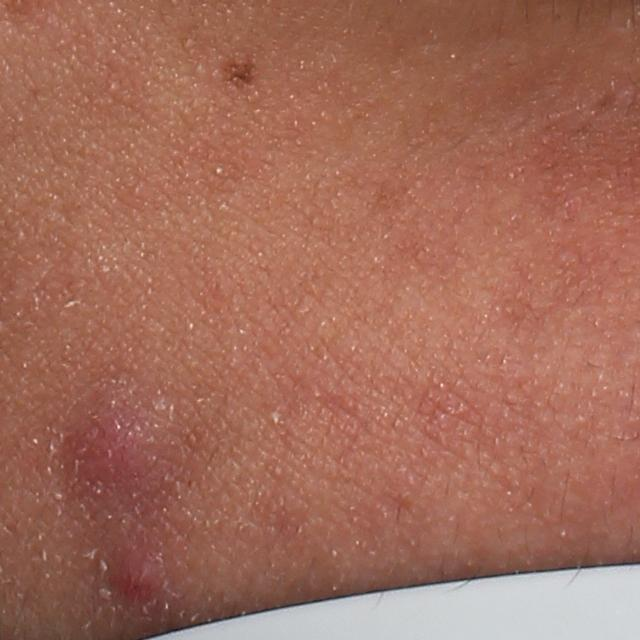nevus: (221, 61, 256, 92)
papule: (68, 388, 172, 505), (93, 540, 165, 614)
